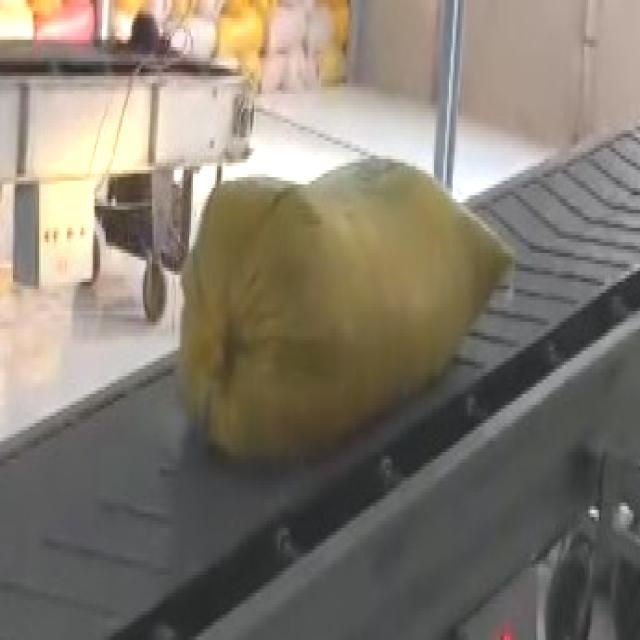gunny_bag: (184, 159, 514, 461)
